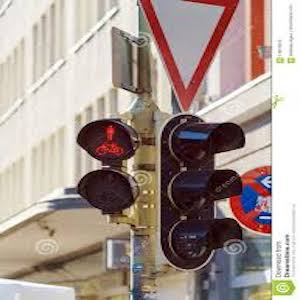red: (95, 124, 122, 161)
